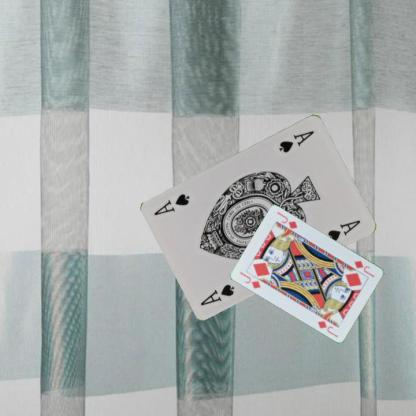As: (276, 128, 316, 154), (198, 281, 235, 307)
Jd: (238, 269, 262, 290), (352, 258, 375, 278)
